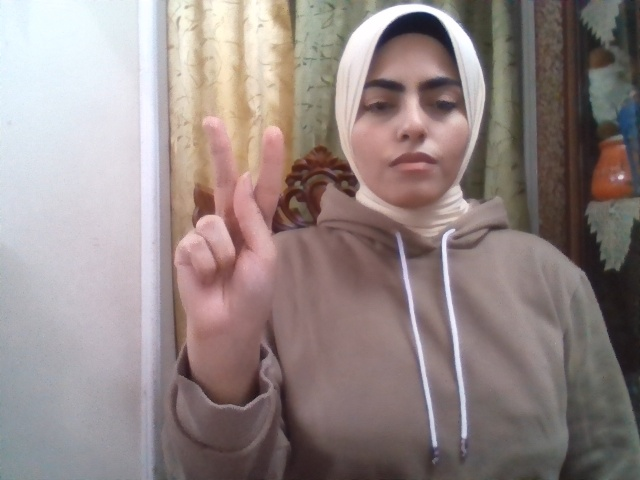K: (175, 117, 285, 353)
